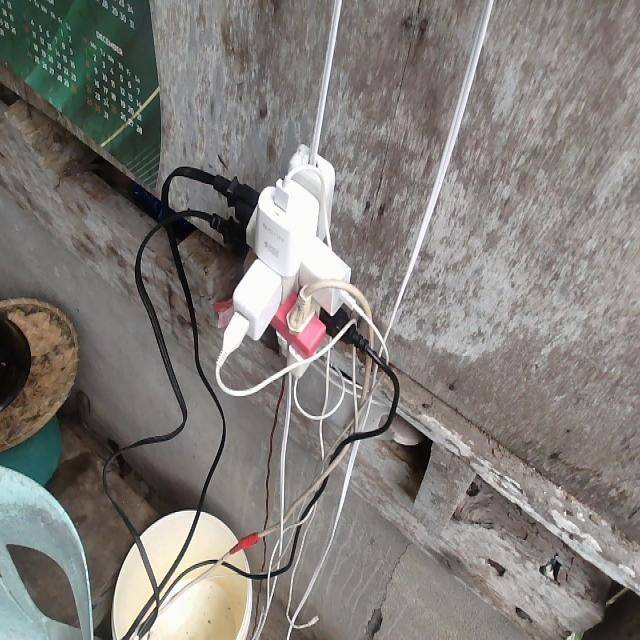-: (205, 144, 370, 381)
